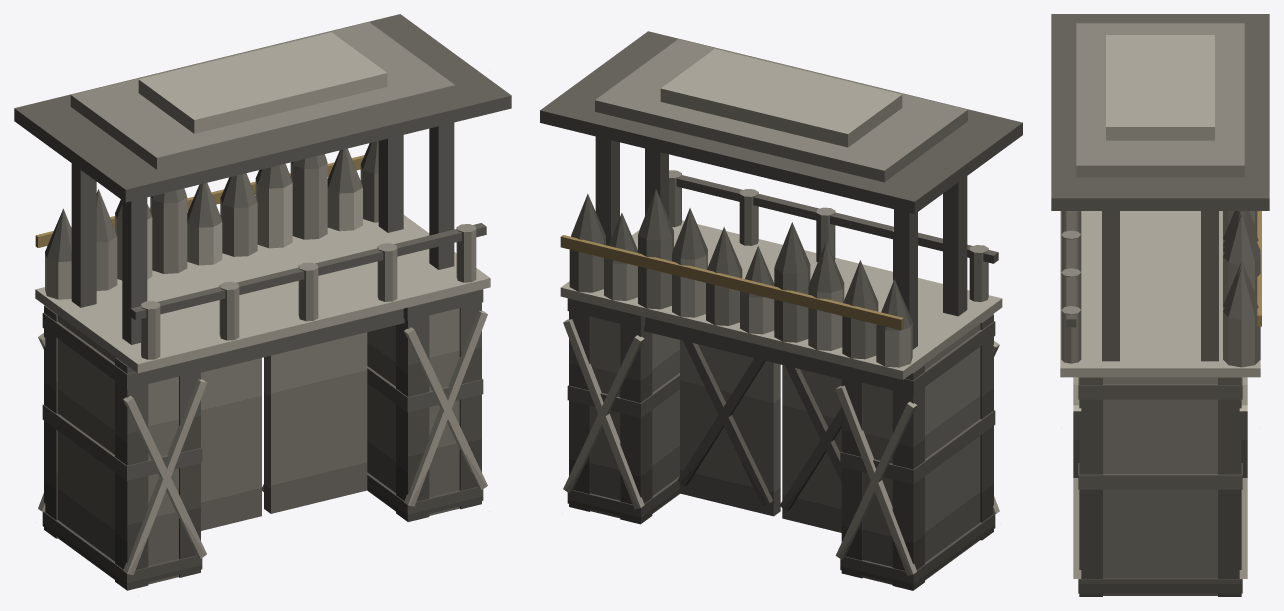
Rendered from perimeter_gate_stone.glb.
The picture shows the model from 3 angles, left to right: view 1: azimuth 30°, elevation 25°; view 2: azimuth 150°, elevation 25°; view 3: azimuth 270°, elevation 25°; orthographic projection. The views are drawn at different scales.
Size of the model in its own units: 4.4 by 4.8 by 2.2.
1 material, 1 textured.
